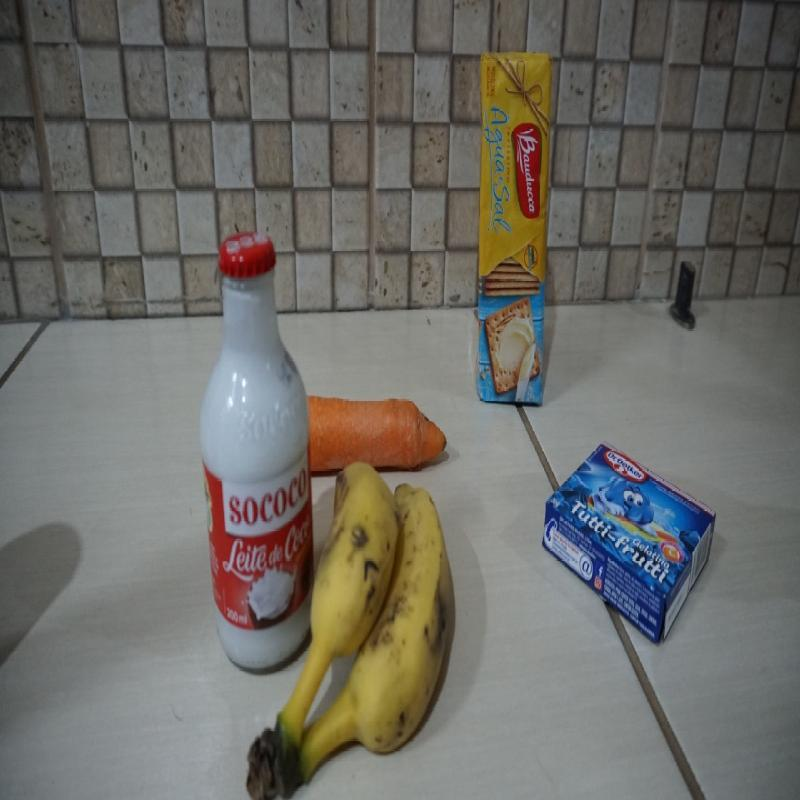Banana: (245, 460, 458, 800)
Carrot: (303, 394, 448, 472)
Coconut Milk: (199, 231, 320, 666)
Cracker: (475, 46, 554, 405)
Gelatine: (542, 439, 718, 649)
